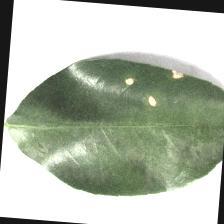canker: (106, 64, 197, 113)
